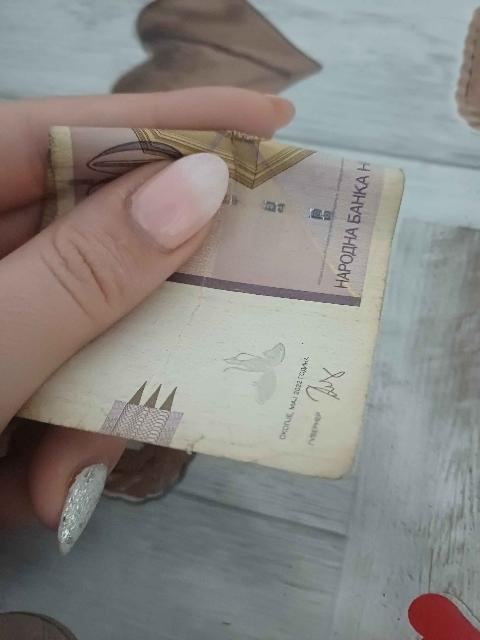100_note: (21, 128, 403, 477)
